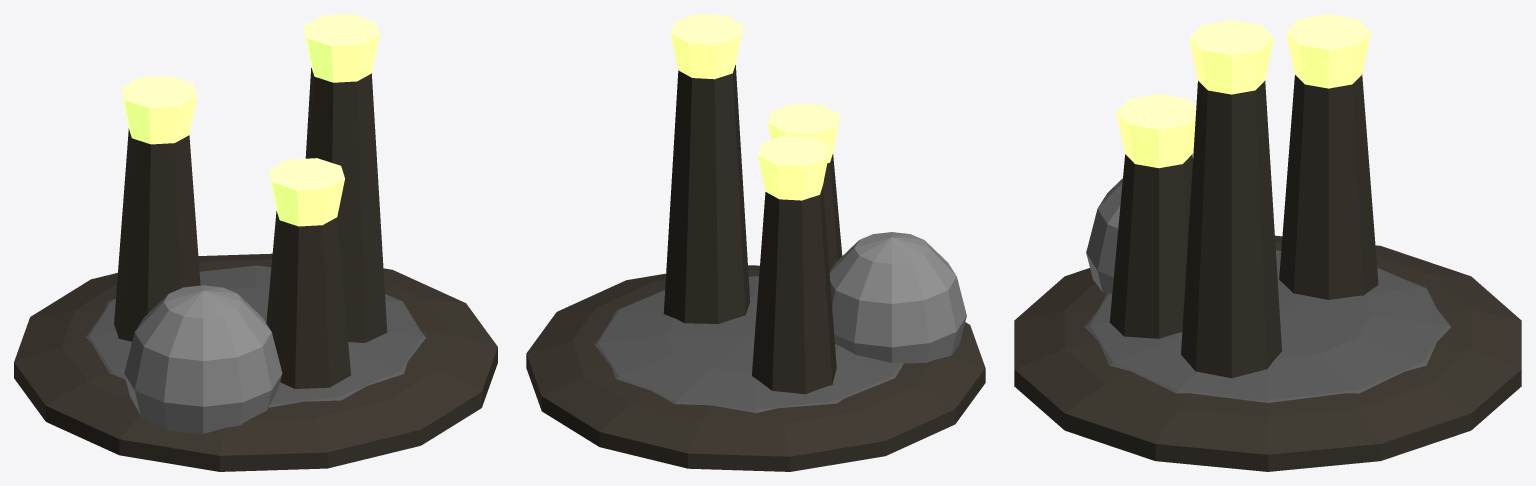
Rendered from bl_vent.glb.
3 renders of one model, left to right at view 1: azimuth 30°, elevation 25°; view 2: azimuth 150°, elevation 25°; view 3: azimuth 270°, elevation 25°, orthographic. The views are drawn at different scales.
Visible parts, largest first — view 1: body; view 2: body; view 3: body.
Boxes of the visible parts, left/top/right/bottom form: body: left=14, top=14, right=497, bottom=471; body: left=526, top=14, right=985, bottom=471; body: left=1014, top=14, right=1521, bottom=471.
Bounding box in the file's own units: 54.91 × 45.5 × 53.53.
